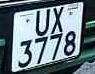3: (18, 38, 33, 68)
7: (32, 36, 48, 65), (47, 33, 64, 60)
8: (63, 30, 77, 57)
U: (33, 7, 51, 37)
X: (50, 5, 65, 35)
